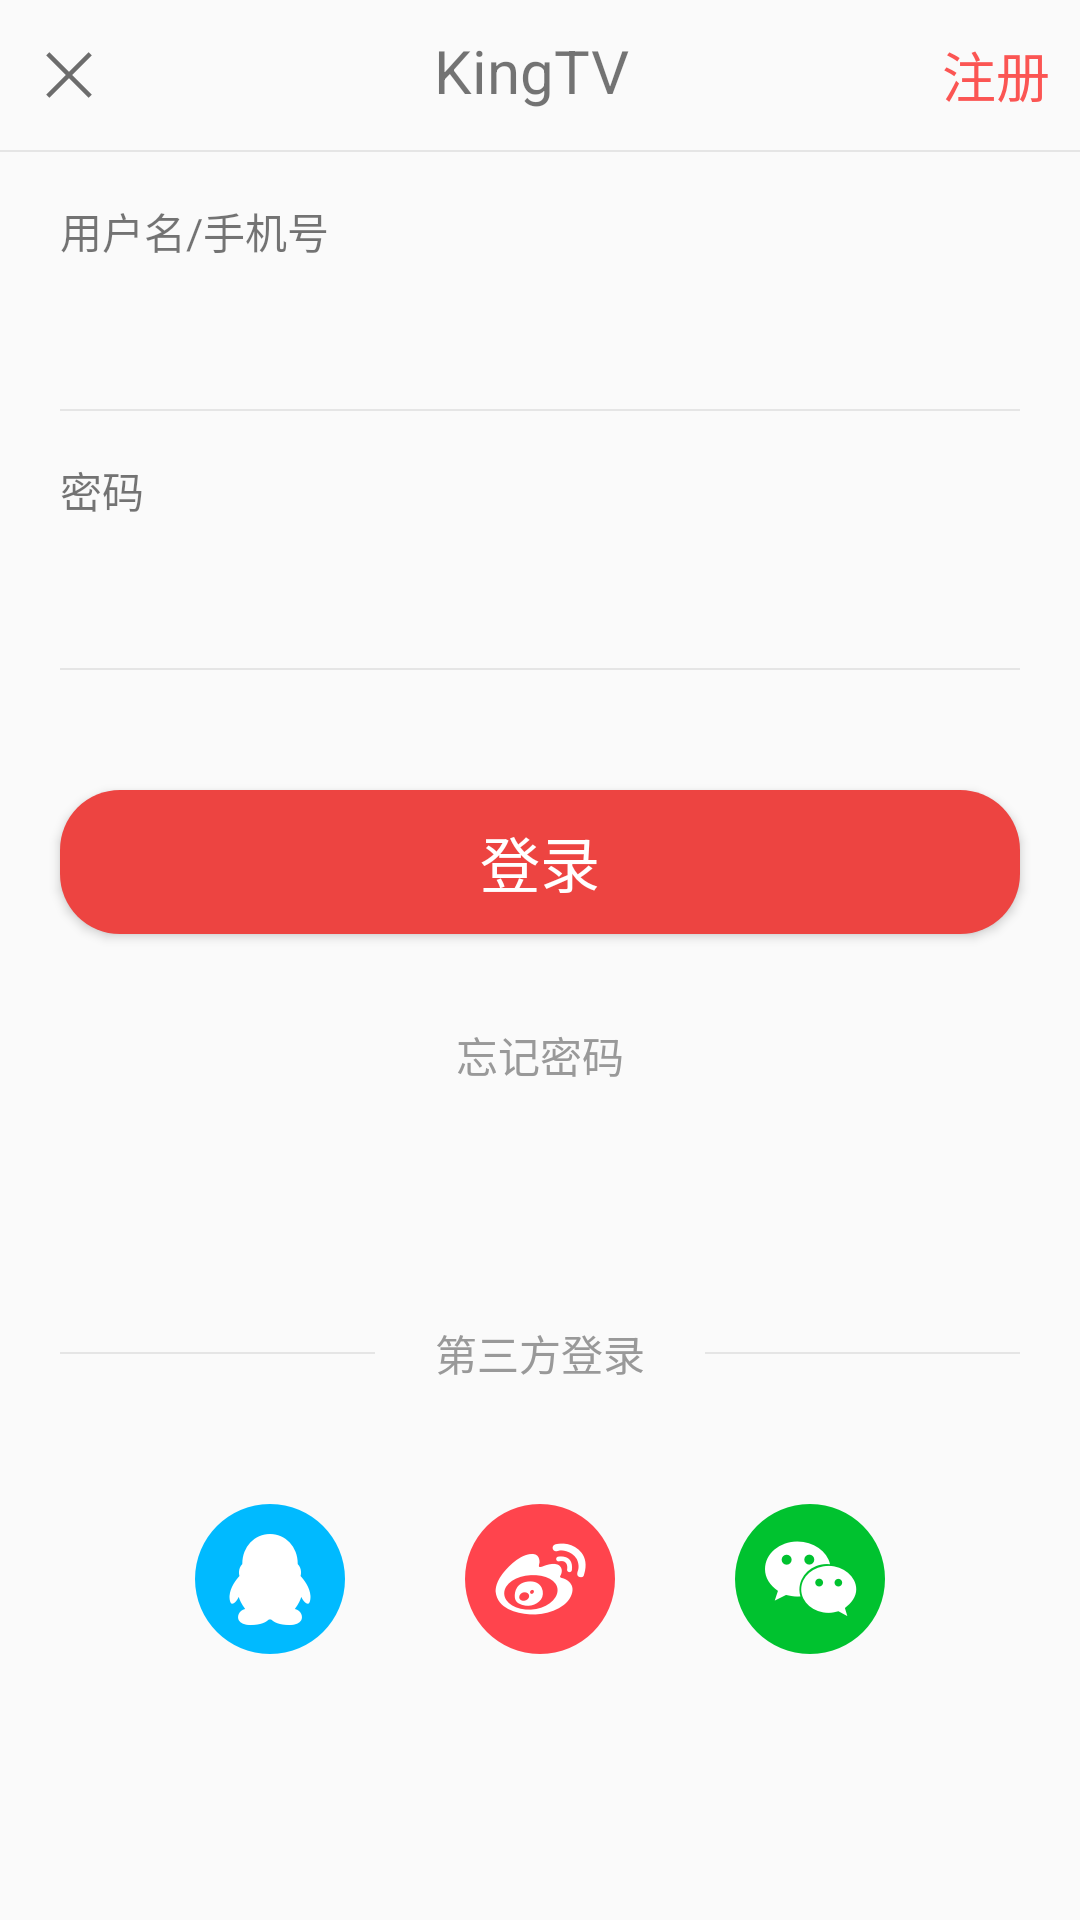

Icons on this 1080 × 1920 Android screen, each with its box as bbox=[x1, y1, x2, y2]:
close: bbox=[46, 52, 92, 98]
